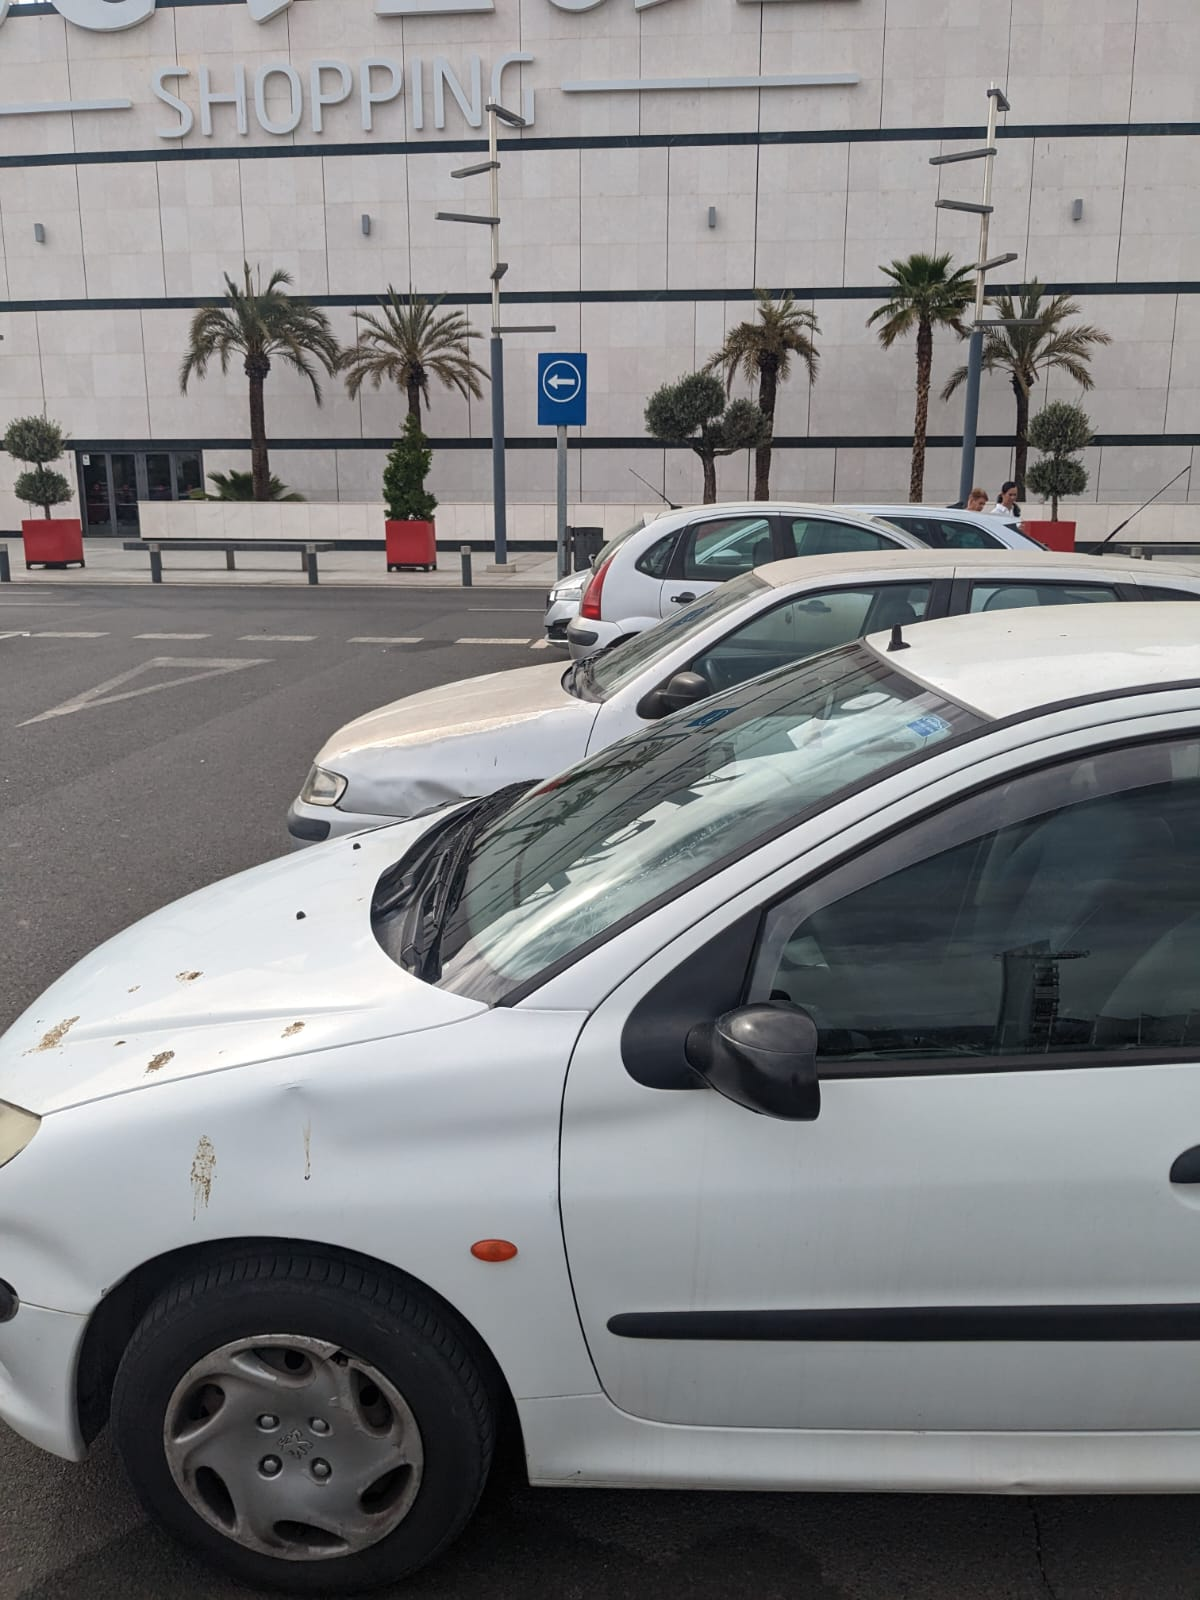car: (9, 596, 1199, 1580), (240, 548, 1199, 859), (561, 501, 924, 657)
